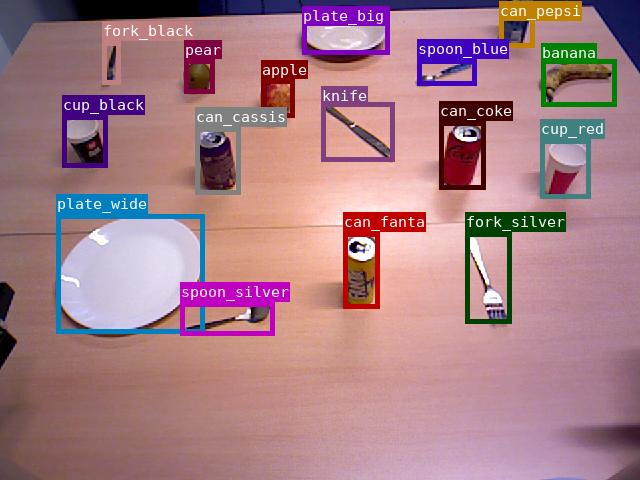apple: (261, 79, 294, 117)
banana: (541, 59, 616, 106)
can_cassis: (195, 127, 240, 194)
can_coke: (439, 121, 485, 189)
can_fanta: (343, 232, 379, 308)
can_pepsi: (499, 1, 534, 47)
cup_black: (62, 115, 107, 167)
cup_red: (540, 139, 590, 198)
fork_black: (102, 41, 120, 84)
fork_silver: (465, 232, 511, 323)
knife: (321, 102, 394, 161)
pear: (184, 59, 214, 93)
plate_big: (302, 6, 389, 54)
plate_wide: (56, 214, 204, 333)
spoon_blue: (417, 59, 476, 85)
spoon_silver: (180, 302, 274, 335)
